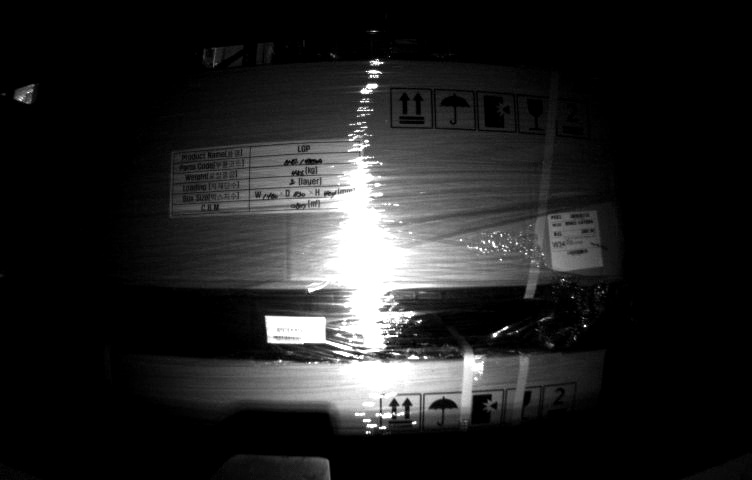True Barcode: (546, 206, 605, 272)
